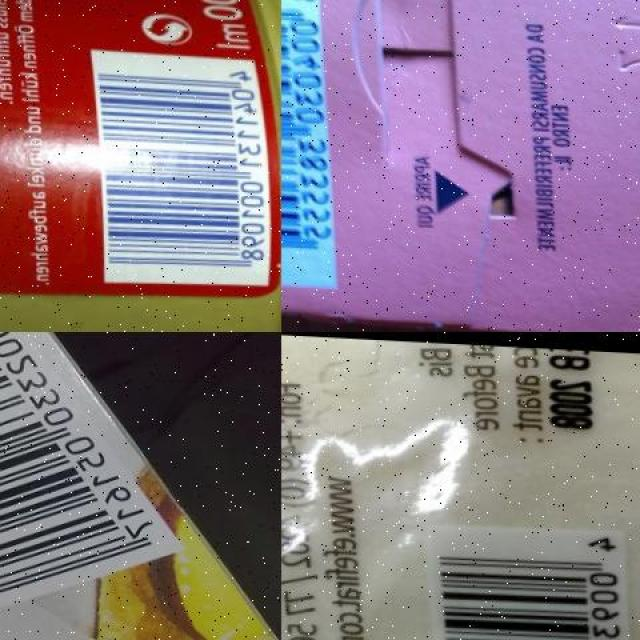Barcode: (0, 332, 183, 628), (84, 48, 273, 288), (420, 518, 636, 640), (281, 0, 335, 284)
